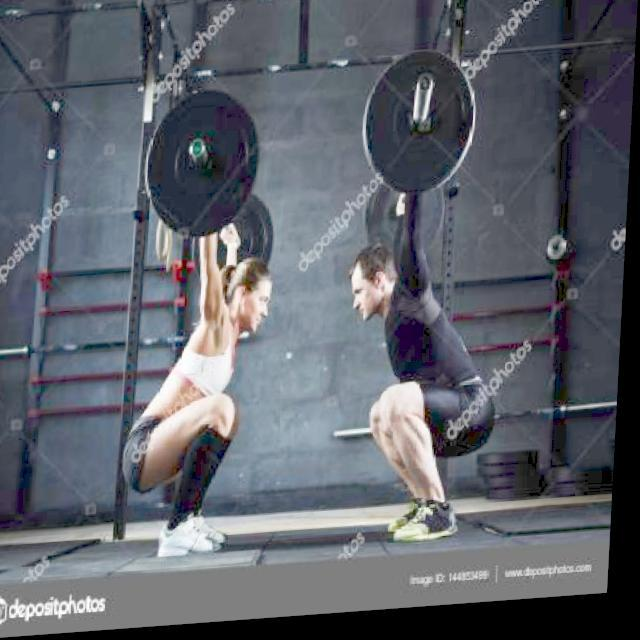barbell: (144, 83, 271, 253), (359, 52, 487, 213)
